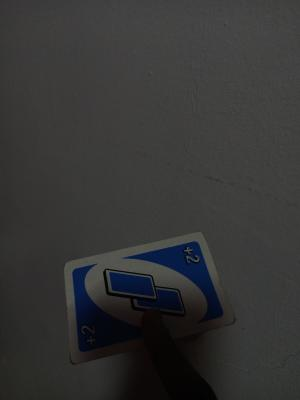-2: (69, 319, 102, 349), (180, 244, 203, 268)
blue: (77, 264, 217, 316)
